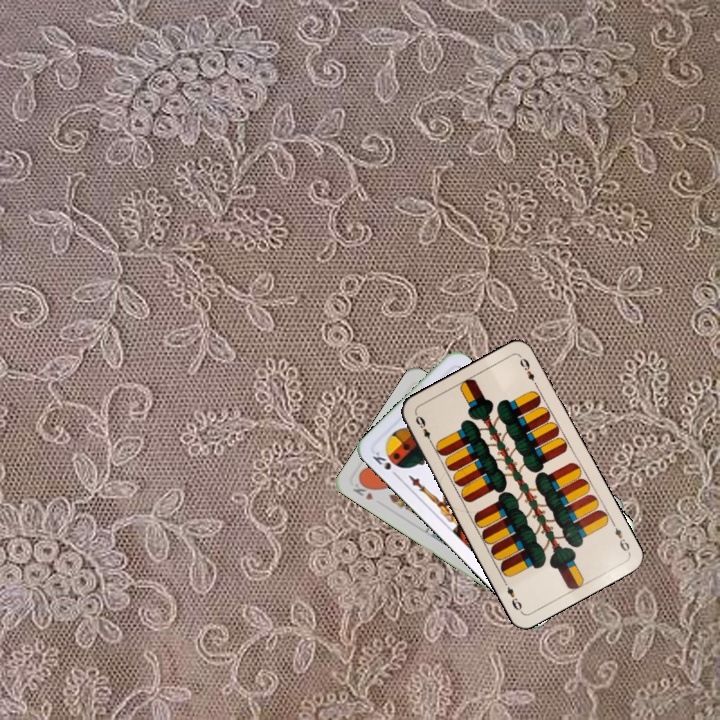E9: (411, 410, 436, 448), (608, 518, 632, 556)
HK: (349, 476, 377, 503)
SK: (368, 448, 401, 480)
